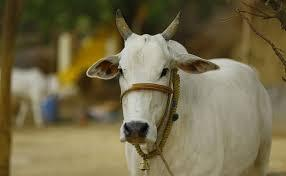cow: (86, 34, 272, 176)
